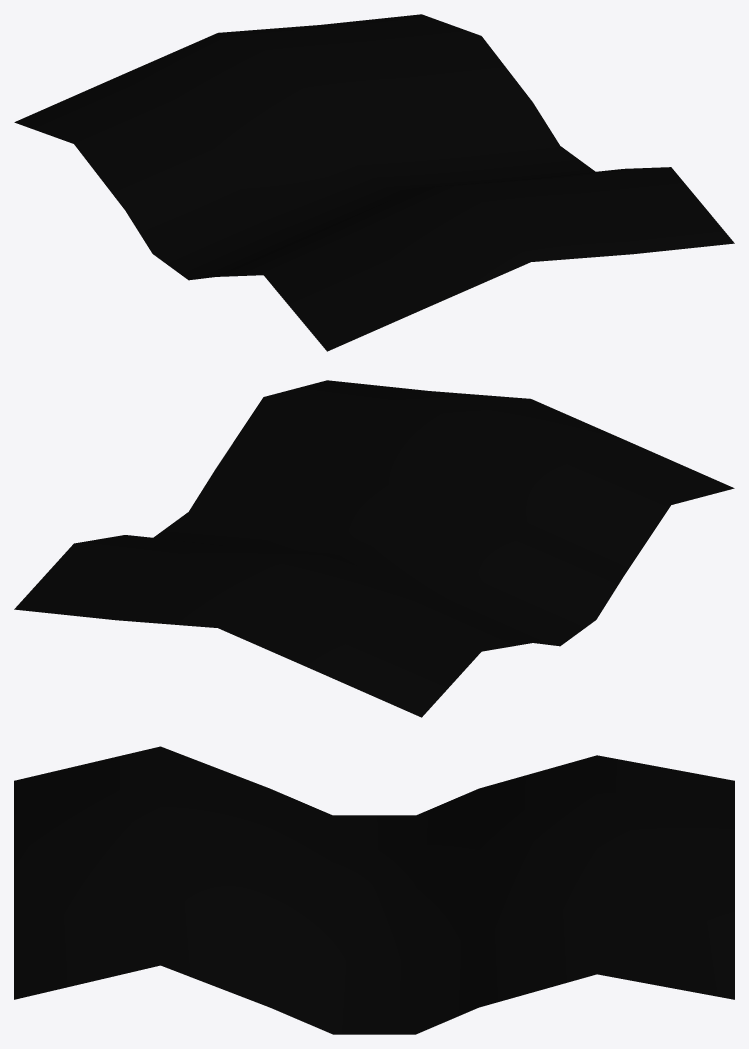
File: buzzard_plane.fbx
3 renders of one model, top to bottom at view 1: azimuth 30°, elevation 25°; view 2: azimuth 150°, elevation 25°; view 3: azimuth 270°, elevation 25°, orthographic. The views are drawn at different scales.
Visible parts, largest first — view 1: buzzard_plane; view 2: buzzard_plane; view 3: buzzard_plane.
Boxes of the visible parts, left/top/right/bottom form: buzzard_plane: left=14, top=14, right=734, bottom=351; buzzard_plane: left=14, top=380, right=734, bottom=717; buzzard_plane: left=14, top=746, right=734, bottom=1034.
Size of the model in its own units: 14.63 by 3.42 by 19.47.
